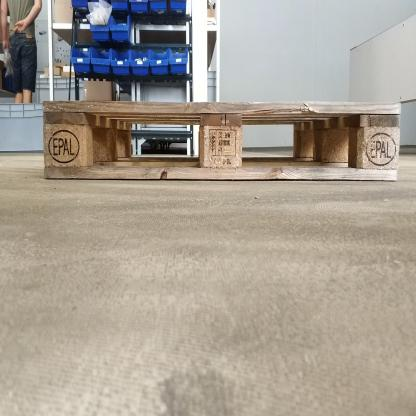BoxFace: (40, 94, 405, 187)
